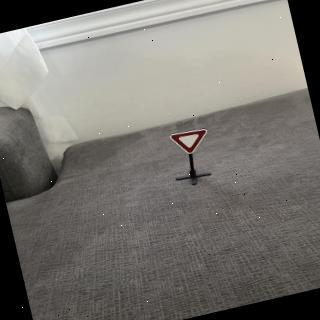sign_yield: (170, 125, 214, 159)
